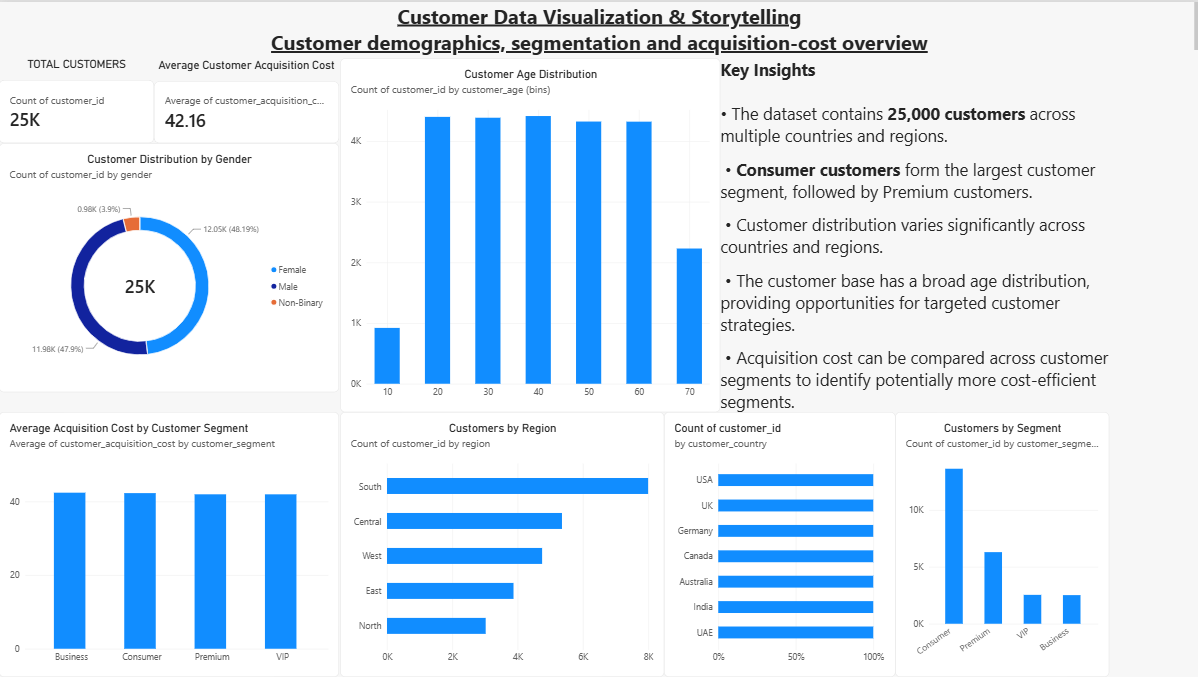

This screenshot's page, from the dashboard's own definition file:
{"tool":"powerbi","page":{"name":"Page 1","canvas":[1920,1080],"ordinal":0},"visuals":[{"type":"textbox","box":[10.3,0,1910.1,88.5],"z":0},{"type":"cardVisual","title":"TOTAL CUSTOMERS","fields":{"Data":["CountNonNull(customer_master.customer_id)"]},"box":[0,88,248,138],"z":1},{"type":"cardVisual","title":"Average Customer Acquisition Cost","fields":{"Data":["Avg(customer_master.customer_acquisition_cost)"]},"box":[248,90,296,136],"z":2},{"type":"donutChart","title":"Customer Distribution by Gender","fields":{"Category":["customer_master.gender"],"Y":["CountNonNull(customer_master.customer_id)"]},"box":[0,226,544,398],"z":3},{"type":"clusteredColumnChart","title":"Customers by Segment","fields":{"Category":["customer_master.customer_segment"],"Y":["CountNonNull(customer_master.customer_id)"]},"box":[1154,656,766,424],"z":4},{"type":"clusteredColumnChart","title":"Customer Age Distribution","fields":{"Category":["customer_master.customer_age (bins)"],"Y":["CountNonNull(customer_master.customer_id)"]},"box":[546,90,608,566],"z":5},{"type":"clusteredBarChart","title":"Customers by Region","fields":{"Category":["customer_master.region"],"Y":["CountNonNull(customer_master.customer_id)"]},"box":[546,656,616,424],"z":6},{"type":"hundredPercentStackedBarChart","fields":{"Category":["customer_master.customer_country"],"Y":["CountNonNull(customer_master.customer_id)"]},"box":[1154,90,766,566],"z":7},{"type":"clusteredColumnChart","title":"Average Acquisition Cost by Customer Segment","fields":{"Category":["customer_master.customer_segment"],"Y":["Avg(customer_master.customer_acquisition_cost)"]},"box":[0,656,544,424],"z":8}]}

Visuals, with their boxes in screenshot pixels (x1, y1, x2, y2), scaled from the page's 1920x1080 canvas onto the 1198x677 screenshot:
textbox: select_region(6, 0, 1197, 55)
"TOTAL CUSTOMERS" cardVisual: select_region(0, 55, 155, 142)
"Average Customer Acquisition Cost" cardVisual: select_region(155, 56, 339, 142)
"Customer Distribution by Gender" donutChart: select_region(0, 142, 339, 391)
"Customers by Segment" clusteredColumnChart: select_region(720, 411, 1197, 676)
"Customer Age Distribution" clusteredColumnChart: select_region(341, 56, 720, 411)
"Customers by Region" clusteredBarChart: select_region(341, 411, 725, 676)
hundredPercentStackedBarChart - customer_master.customer_country x CountNonNull(customer_master.customer_id): select_region(720, 56, 1197, 411)
"Average Acquisition Cost by Customer Segment" clusteredColumnChart: select_region(0, 411, 339, 676)
